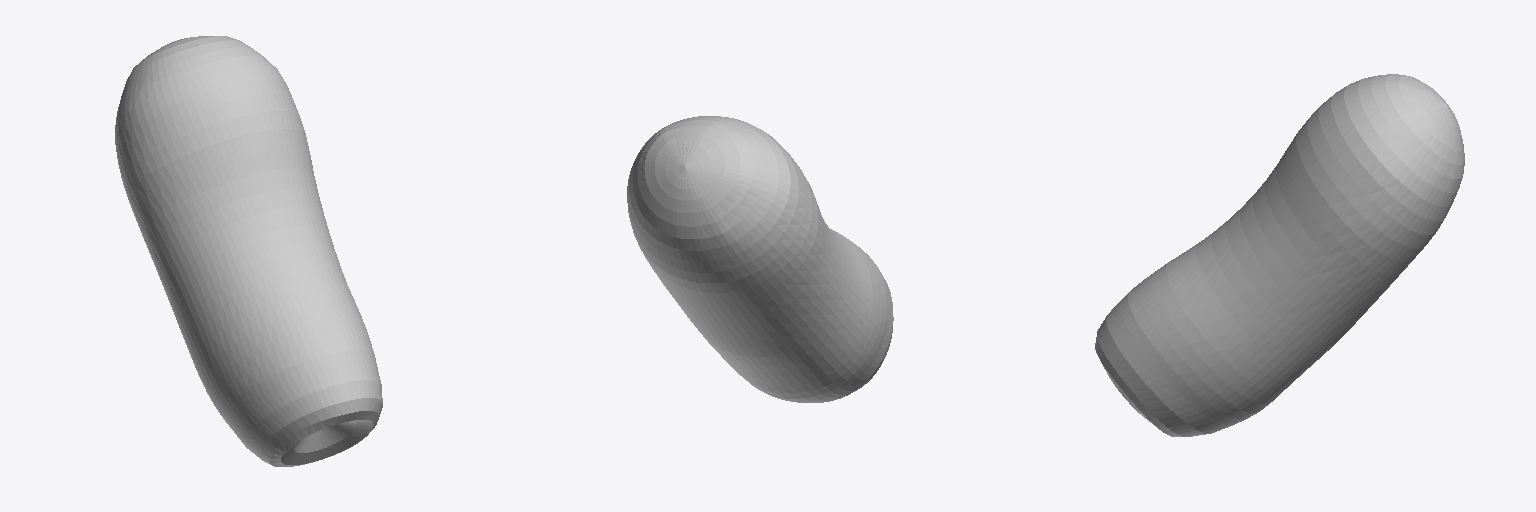
File: pone_Short_Sheth.obj
3 views of the same model, side by side, from view 1: azimuth 30°, elevation 25°; view 2: azimuth 150°, elevation 25°; view 3: azimuth 270°, elevation 25° (orthographic).
Visible parts, largest first — view 1: Sphere.006; view 2: Sphere.006; view 3: Sphere.006.
Part boxes in pixels (left/top/right/bottom): Sphere.006: left=115, top=36, right=382, bottom=466; Sphere.006: left=627, top=116, right=893, bottom=402; Sphere.006: left=1095, top=74, right=1464, bottom=436.
Size of the model in its own units: 8.54 by 16.71 by 16.2.